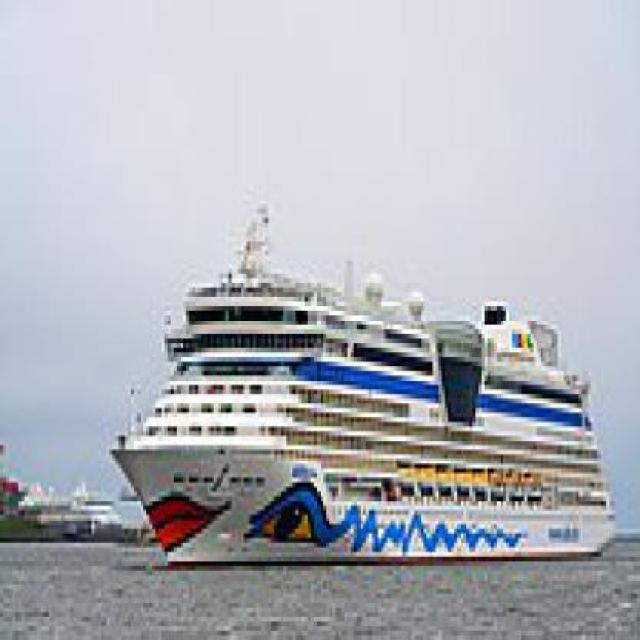cruise: (110, 200, 632, 585)
